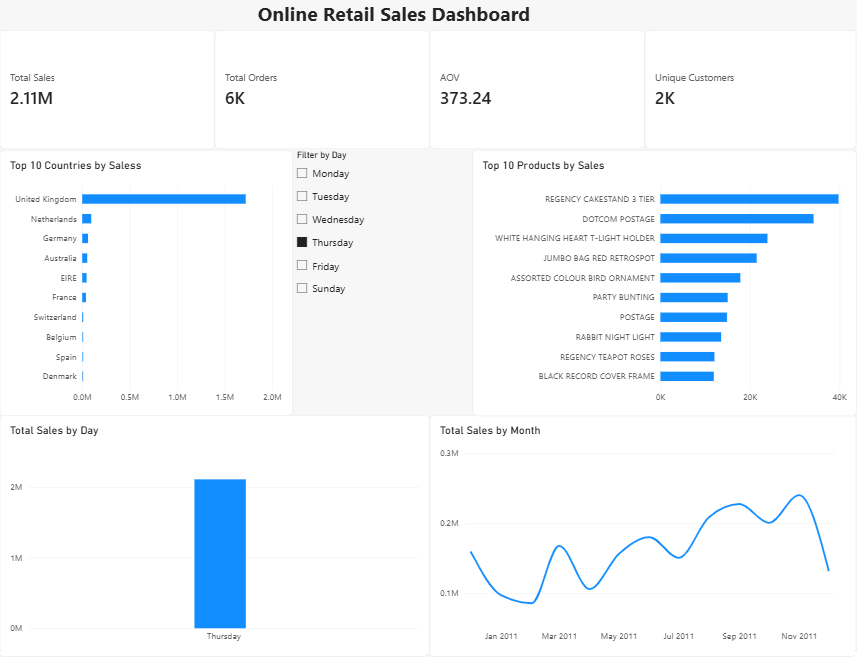

The dashboard page shown, as its layout file describes it:
{"tool":"powerbi","page":{"name":"Online Retail Sales Dashboard","canvas":[1920,1080],"ordinal":0},"visuals":[{"type":"cardVisual","fields":{"Data":["online_retail_analytics online_retail_final.Total Sales"]},"box":[310,50,354,196],"z":0},{"type":"cardVisual","fields":{"Data":["online_retail_analytics online_retail_final.Total Orders"]},"box":[664,50,354,196],"z":1000},{"type":"cardVisual","fields":{"Data":["online_retail_analytics online_retail_final.Unique Customers"]},"box":[1372,50,350,196],"z":2000},{"type":"cardVisual","fields":{"Data":["online_retail_analytics online_retail_final.AOV"]},"box":[1018,50,354,196],"z":3000},{"type":"clusteredBarChart","title":"Top 10 Countries by Saless","fields":{"Category":["online_retail_analytics online_retail_final.country"],"Y":["online_retail_analytics online_retail_final.Total Sales"]},"box":[310,246,482,438],"z":4000},{"type":"lineChart","title":"Total Sales by Month","fields":{"Y":["online_retail_analytics online_retail_final.Total Sales"],"Category":["online_retail_analytics online_retail_final.invoice_date.Variation.Date Hierarchy.Year","online_retail_analytics online_retail_final.invoice_date.Variation.Date Hierarchy.Month"]},"box":[1018,684,704,396],"z":5000},{"type":"clusteredBarChart","title":"Top 10 Products by Sales","fields":{"Category":["online_retail_analytics online_retail_final.description"],"Y":["online_retail_analytics online_retail_final.Total Sales"]},"box":[1088,246,634,438],"z":6000},{"type":"clusteredColumnChart","title":"Total Sales by Day","fields":{"Category":["online_retail_analytics online_retail_final.Day Name"],"Y":["online_retail_analytics online_retail_final.Total Sales"]},"box":[310,684,708,396],"z":7000},{"type":"textbox","box":[716.3,0,487.8,63.8],"z":8000},{"type":"slicer","fields":{"Values":["online_retail_analytics online_retail_final.Day Name"]},"box":[792.5,247,296.4,436.4],"z":9000}]}

Visuals, with their boxes on the page's 1920x1080 design canvas (x1, y1, x2, y2). These are canvas units, not pixel positions in the 858x657 screenshot, which may show the page scaled, cropped or inside an application window:
cardVisual - online_retail_analytics online_retail_final.Total Sales: 310:50:664:246
cardVisual - online_retail_analytics online_retail_final.Total Orders: 664:50:1018:246
cardVisual - online_retail_analytics online_retail_final.Unique Customers: 1372:50:1722:246
cardVisual - online_retail_analytics online_retail_final.AOV: 1018:50:1372:246
"Top 10 Countries by Saless" clusteredBarChart: 310:246:792:684
"Total Sales by Month" lineChart: 1018:684:1722:1080
"Top 10 Products by Sales" clusteredBarChart: 1088:246:1722:684
"Total Sales by Day" clusteredColumnChart: 310:684:1018:1080
textbox: 716:0:1204:64
slicer - online_retail_analytics online_retail_final.Day Name: 792:247:1089:683
